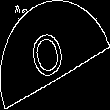O_SE: (33, 23, 77, 87)
